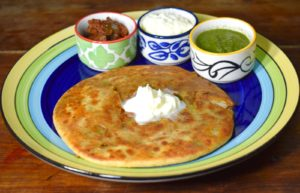aloo_paratha: (50, 64, 235, 167)
